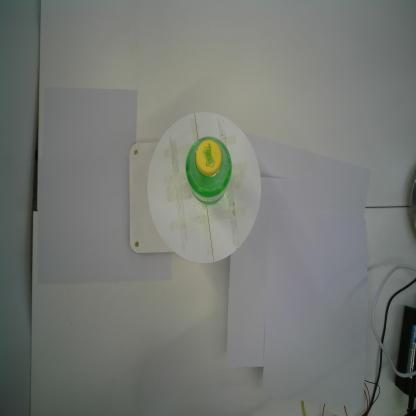Drink: (184, 134, 234, 208)
